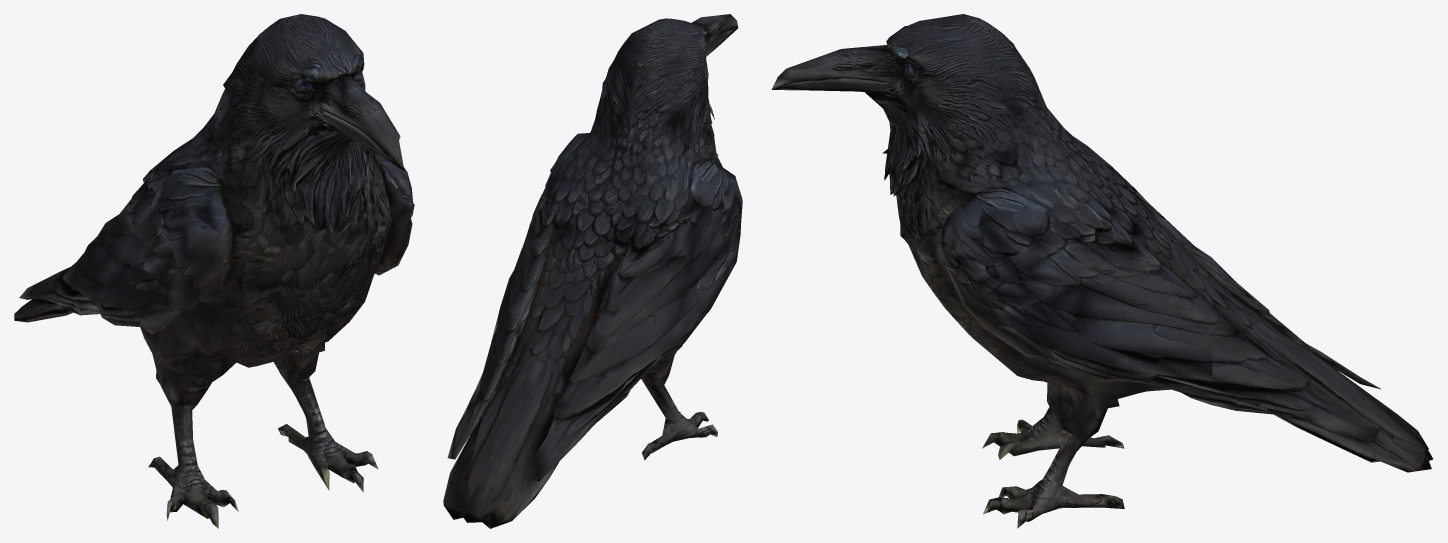
Rendered from raven.glb.
The picture shows the model from 3 angles, left to right: view 1: azimuth 30°, elevation 25°; view 2: azimuth 150°, elevation 25°; view 3: azimuth 270°, elevation 25°; orthographic projection. The views are drawn at different scales.
Parts seen in each view (by area): view 1: raven; view 2: raven; view 3: raven.
Boxes of the visible parts, bbox=[...] form: raven: bbox=[14, 14, 414, 528]; raven: bbox=[443, 14, 742, 528]; raven: bbox=[771, 14, 1432, 528].
Size of the model in its own units: 0.3903 by 0.7576 by 0.983.
Materials: 1 (1 with a texture image).
